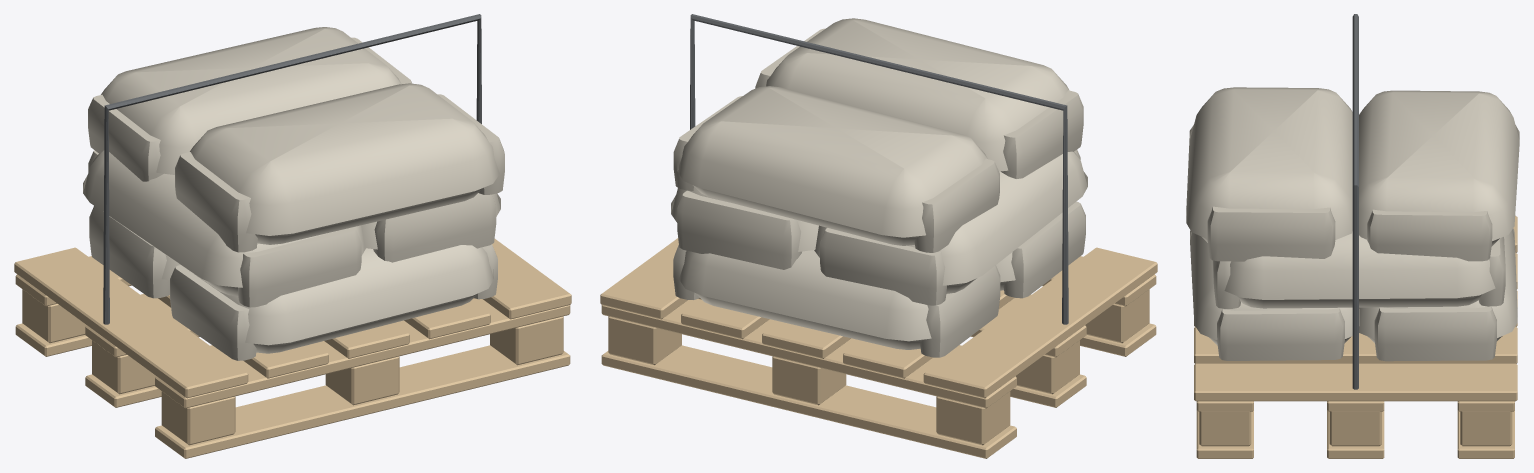
File: plaster-bag-half-pallet.glb
3 views of the same model, side by side, from view 1: azimuth 30°, elevation 25°; view 2: azimuth 150°, elevation 25°; view 3: azimuth 270°, elevation 25° (orthographic). The views are drawn at different scales.
Parts seen in each view (by area): view 1: plaster-bag-half-pallet; view 2: plaster-bag-half-pallet; view 3: plaster-bag-half-pallet.
Part boxes in pixels (x1,y1,x2,y2): plaster-bag-half-pallet: [14, 14, 571, 458]; plaster-bag-half-pallet: [600, 14, 1157, 458]; plaster-bag-half-pallet: [1186, 14, 1519, 458].
Bounding box in the file's own units: 0.8 × 0.5745 × 0.6393.
